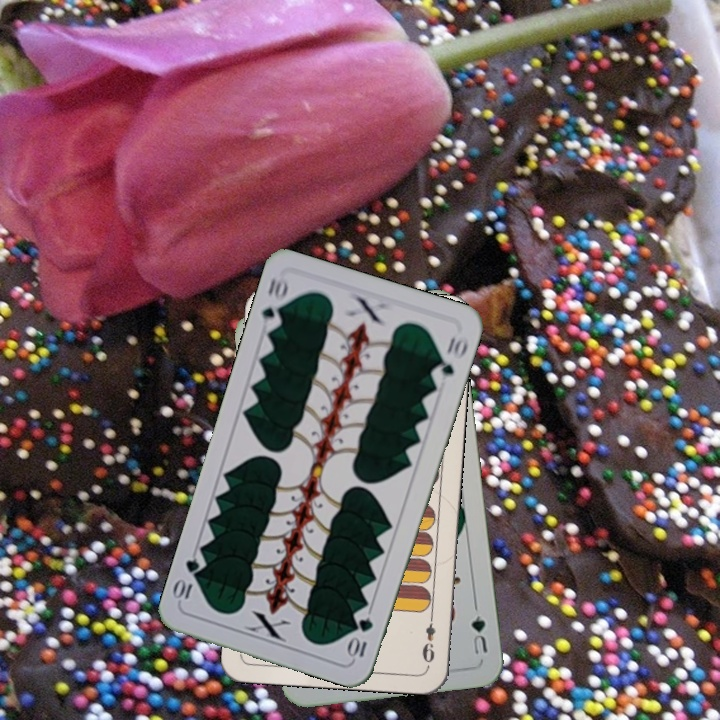E9: (418, 609, 438, 669)
G10: (257, 272, 291, 333), (345, 613, 376, 662)
GU: (467, 601, 490, 657)
